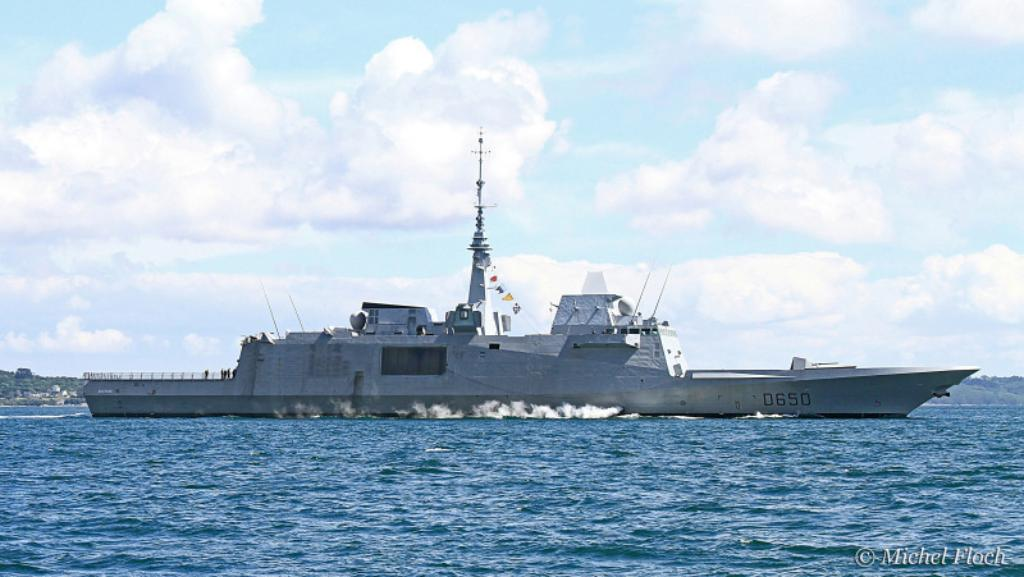Warship: (78, 119, 980, 421)
